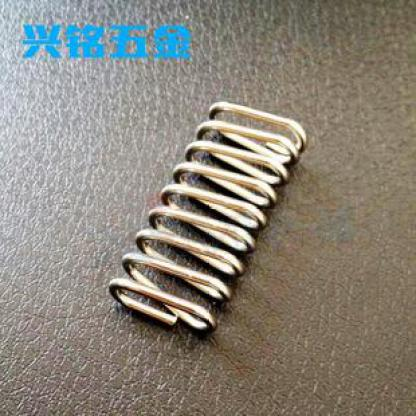FOD: (104, 98, 311, 339)
